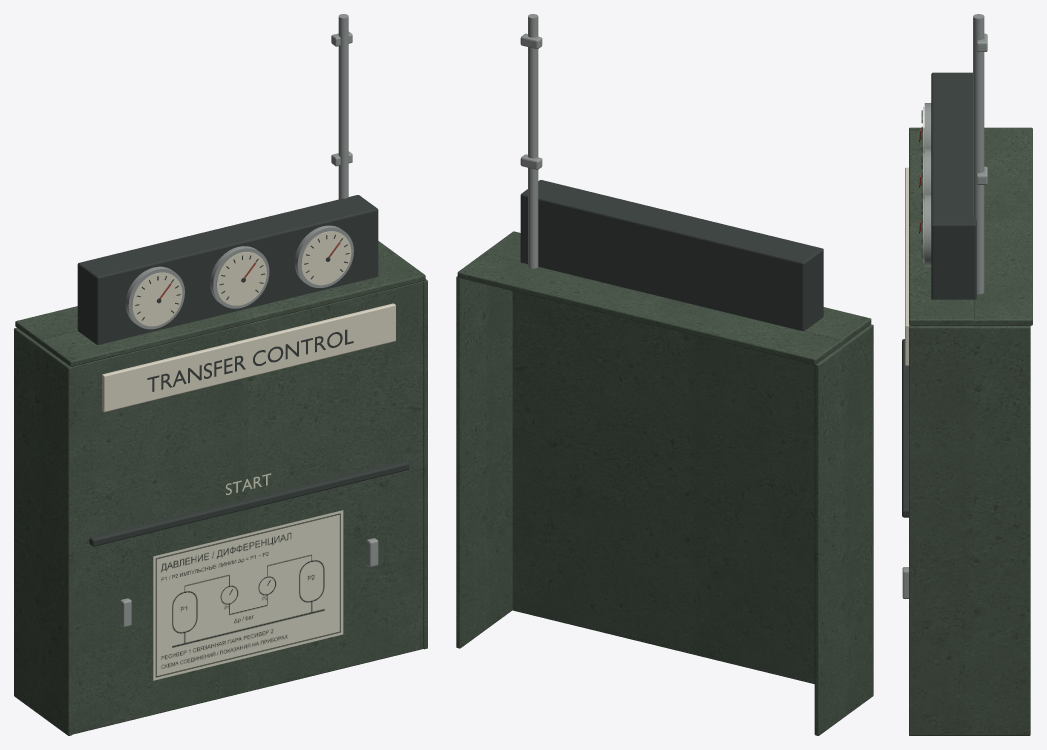
The model's file is pressure_control_casing.glb.
3 renders of one model, left to right at view 1: azimuth 30°, elevation 25°; view 2: azimuth 150°, elevation 25°; view 3: azimuth 270°, elevation 25°, orthographic. The views are drawn at different scales.
Parts seen in each view (by area): view 1: pressure_control_casing / transfer_green_enamel, Printed circuit legend, pressure_control_casing / transfer_dark_steel, pressure_control_casing / transfer_instrument_ivory, pressure_control_casing / transfer_galvanized; view 2: pressure_control_casing / transfer_green_enamel, pressure_control_casing / transfer_dark_steel, pressure_control_casing / transfer_galvanized; view 3: pressure_control_casing / transfer_green_enamel, pressure_control_casing / transfer_dark_steel, pressure_control_casing / transfer_galvanized, pressure_control_casing / transfer_instrument_ivory.
Boxes of the visible parts, left/top/right/bottom form: pressure_control_casing / transfer_green_enamel: left=14, top=241, right=427, bottom=735; Printed circuit legend: left=153, top=510, right=343, bottom=680; pressure_control_casing / transfer_dark_steel: left=77, top=195, right=409, bottom=546; pressure_control_casing / transfer_instrument_ivory: left=102, top=231, right=395, bottom=494; pressure_control_casing / transfer_galvanized: left=120, top=14, right=378, bottom=627; pressure_control_casing / transfer_green_enamel: left=456, top=231, right=873, bottom=735; pressure_control_casing / transfer_dark_steel: left=520, top=180, right=823, bottom=331; pressure_control_casing / transfer_galvanized: left=520, top=14, right=542, bottom=268; pressure_control_casing / transfer_green_enamel: left=909, top=127, right=1032, bottom=735; pressure_control_casing / transfer_dark_steel: left=902, top=72, right=976, bottom=517; pressure_control_casing / transfer_galvanized: left=902, top=14, right=987, bottom=598; pressure_control_casing / transfer_instrument_ivory: left=905, top=107, right=924, bottom=365.
Bounding box in the file's own units: 2.05 × 3.38 × 0.58.
7 materials, 2 textured.
